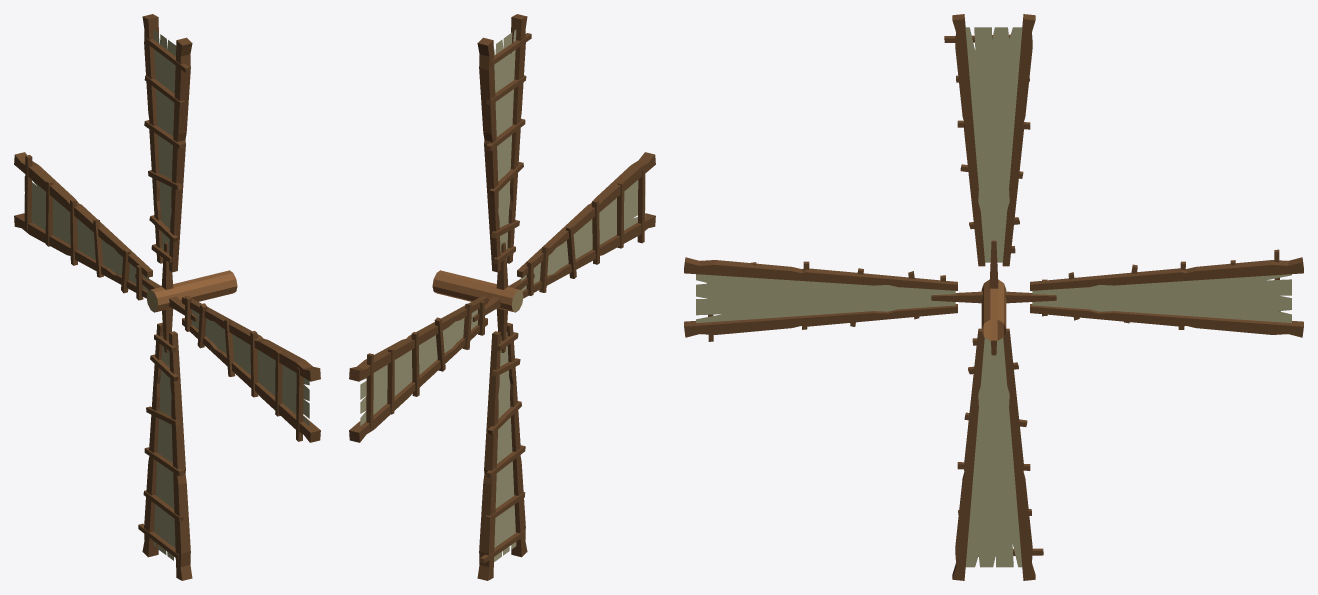
The model's file is mill_blades.001_lev2.glb.
3 renders of one model, left to right at view 1: azimuth 30°, elevation 25°; view 2: azimuth 150°, elevation 25°; view 3: azimuth 270°, elevation 25°, orthographic. The views are drawn at different scales.
Parts seen in each view (by area): view 1: mill_blades.001_lev2; view 2: mill_blades.001_lev2; view 3: mill_blades.001_lev2.
Boxes of the visible parts, x1,y1,x2,y2 form: mill_blades.001_lev2: (14, 14, 320, 580); mill_blades.001_lev2: (349, 14, 655, 580); mill_blades.001_lev2: (684, 14, 1303, 580).
Bounding box in the file's own units: 1.03 × 6.72 × 6.72.
